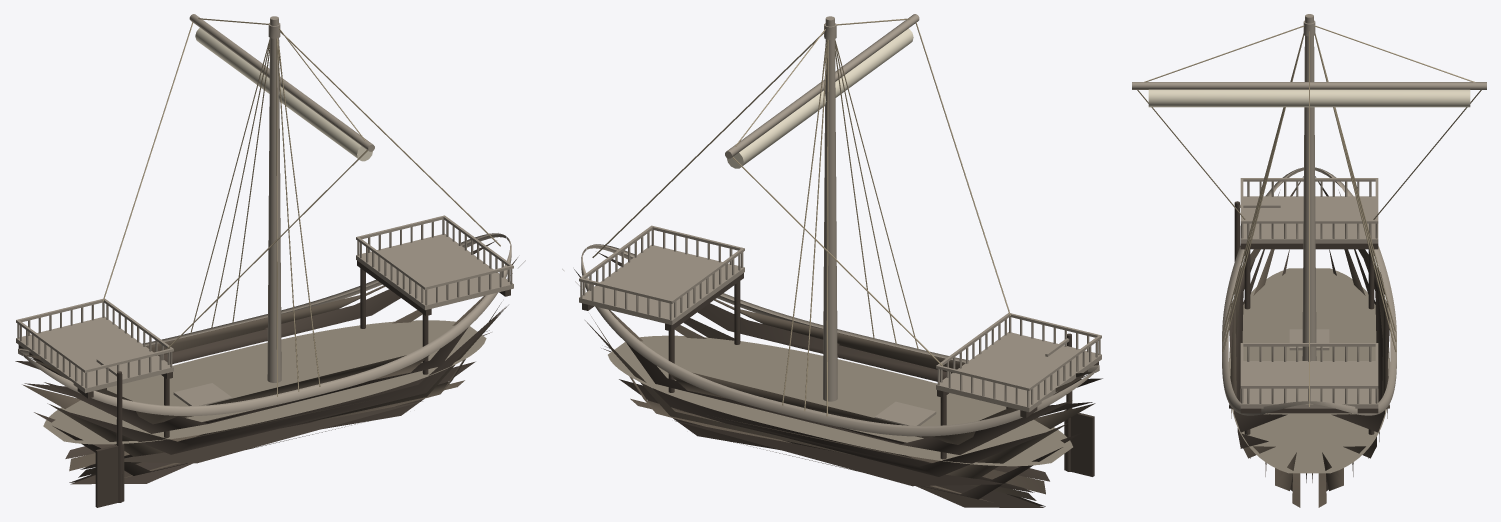
Rendered from hulk-far.glb.
The picture shows the model from 3 angles, left to right: view 1: azimuth 30°, elevation 25°; view 2: azimuth 150°, elevation 25°; view 3: azimuth 270°, elevation 25°; orthographic projection. The views are drawn at different scales.
Visible parts, largest first — view 1: deck, tar, tarLight, oak, castle-platform.001, castle-platform, hemp, mast, sail-furled, yard, rudder-blade, deck-hatch (+1 smaller); view 2: deck, tar, tarLight, oak, castle-platform.001, castle-platform, hemp, mast, sail-furled, yard, rudder-blade, deck-hatch; view 3: deck, sail-furled, castle-platform.001, castle-platform, hemp, tarLight, tar, mast, oak, yard, castle-beam-front, castle-beam-rear.001 (+5 smaller).
Boxes of the visible parts, x1=… form: deck: x1=43, y1=320, x2=486, y2=444; tar: x1=15, y1=240, x2=517, y2=484; tarLight: x1=22, y1=243, x2=525, y2=477; oak: x1=18, y1=233, x2=511, y2=416; castle-platform.001: x1=356, y1=234, x2=513, y2=310; castle-platform: x1=16, y1=317, x2=173, y2=393; hemp: x1=102, y1=18, x2=500, y2=396; mast: x1=267, y1=16, x2=281, y2=382; sail-furled: x1=195, y1=28, x2=372, y2=161; yard: x1=189, y1=14, x2=374, y2=151; rudder-blade: x1=95, y1=443, x2=124, y2=507; deck-hatch: x1=173, y1=383, x2=232, y2=405; deck: x1=608, y1=335, x2=1072, y2=466; tar: x1=574, y1=253, x2=1102, y2=507; tarLight: x1=562, y1=255, x2=1095, y2=501; oak: x1=581, y1=244, x2=1099, y2=436; castle-platform.001: x1=579, y1=245, x2=744, y2=324; castle-platform: x1=936, y1=332, x2=1101, y2=412; hemp: x1=592, y1=18, x2=1010, y2=416; mast: x1=823, y1=16, x2=837, y2=401; sail-furled: x1=727, y1=28, x2=913, y2=168; yard: x1=725, y1=14, x2=919, y2=158; rudder-blade: x1=1064, y1=410, x2=1094, y2=476; deck-hatch: x1=874, y1=401, x2=936, y2=425; deck: x1=1229, y1=268, x2=1389, y2=473; sail-furled: x1=1148, y1=89, x2=1470, y2=107; castle-platform.001: x1=1240, y1=361, x2=1378, y2=408; castle-platform: x1=1240, y1=196, x2=1378, y2=243; hemp: x1=1137, y1=25, x2=1481, y2=406; tarLight: x1=1229, y1=176, x2=1389, y2=507; tar: x1=1229, y1=192, x2=1389, y2=491; mast: x1=1302, y1=14, x2=1316, y2=360; oak: x1=1222, y1=167, x2=1396, y2=415; yard: x1=1132, y1=82, x2=1486, y2=89; castle-beam-front: x1=1240, y1=243, x2=1378, y2=249; castle-beam-rear.001: x1=1240, y1=408, x2=1378, y2=413.
Size of the model in its own units: 25.49 by 21.22 by 16.
